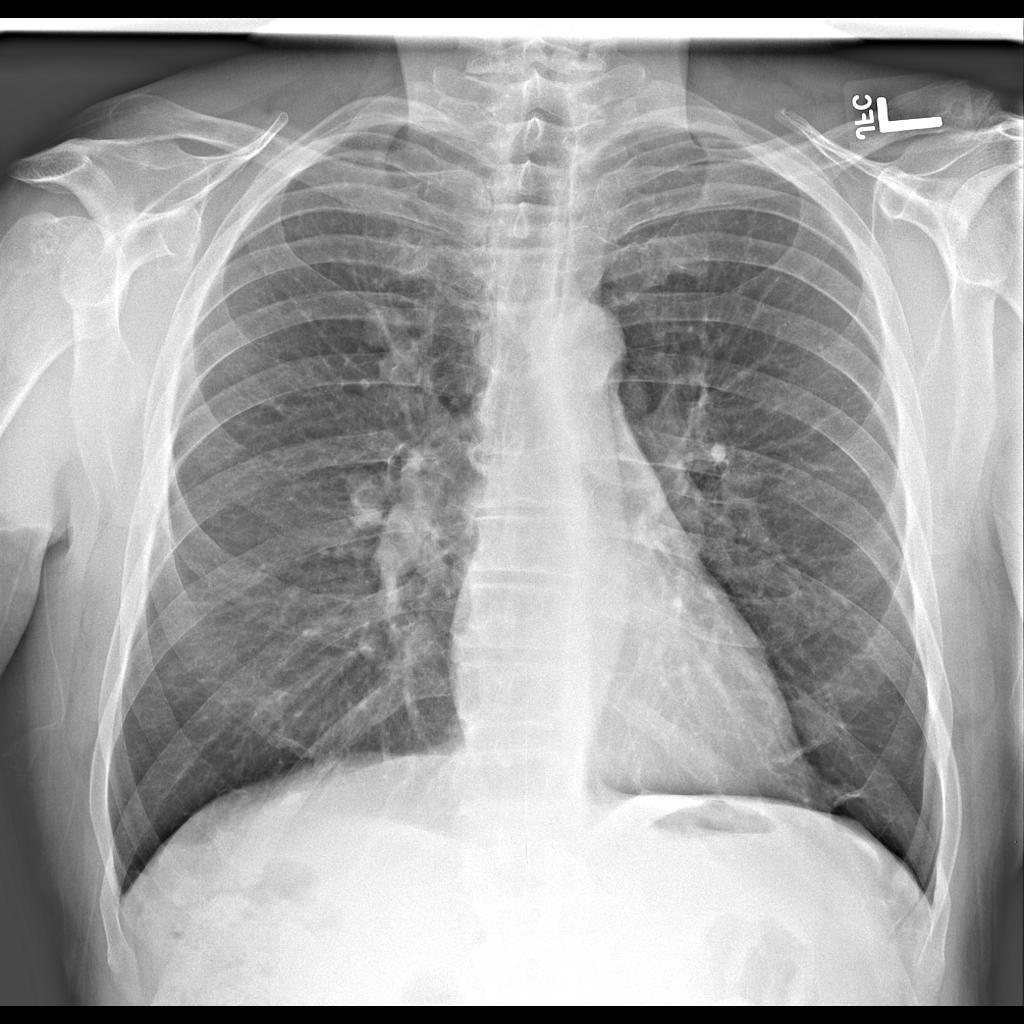Nodule: (375, 347, 443, 425), (350, 302, 421, 353)
